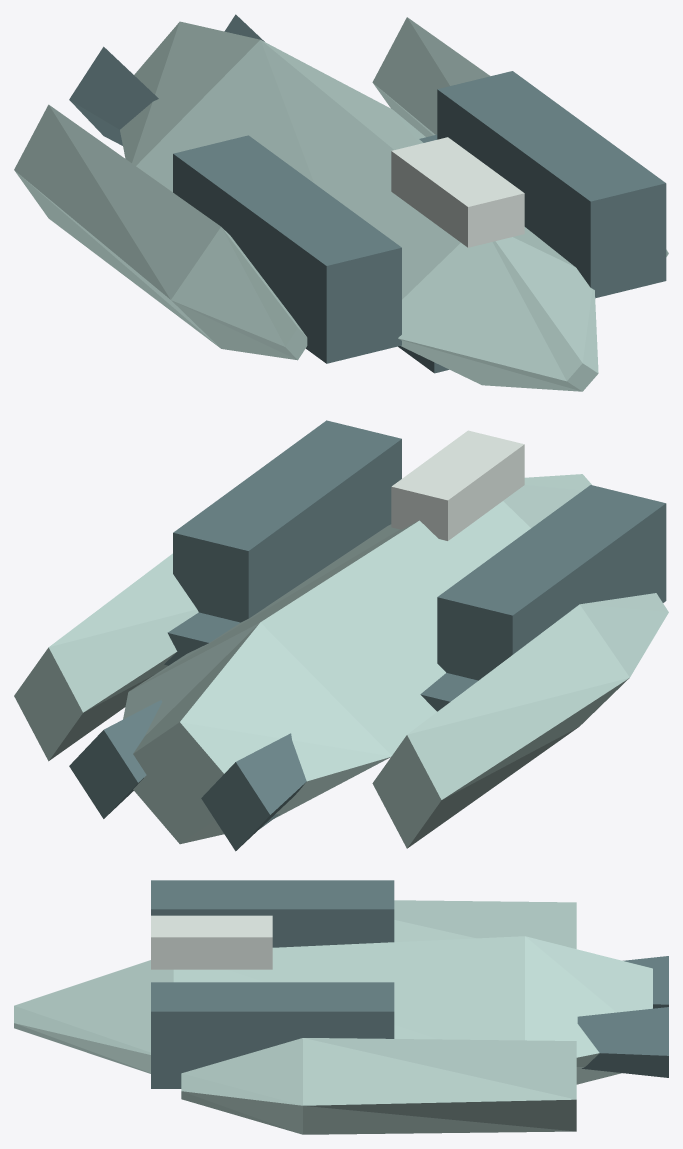
3 renders of one model, top to bottom at view 1: azimuth 30°, elevation 25°; view 2: azimuth 150°, elevation 25°; view 3: azimuth 270°, elevation 25°, orthographic. The views are drawn at different scales.
Bounding box in the file's own units: 2.57 × 1.16 × 4.
